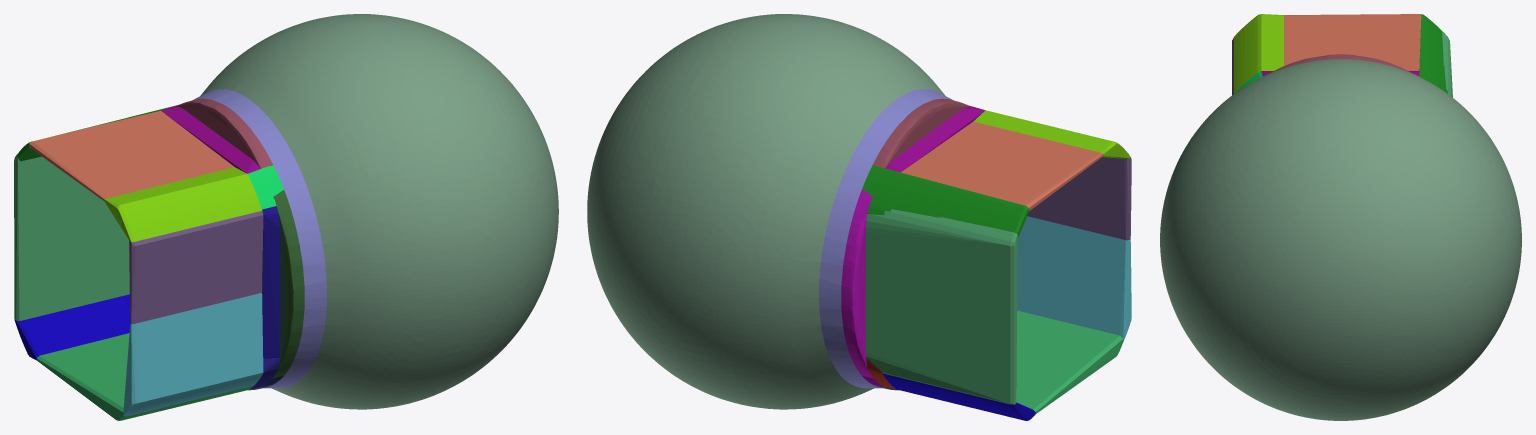
Rendered from lamp_bulb_body.obj.
3 views of the same model, side by side, from view 1: azimuth 30°, elevation 25°; view 2: azimuth 150°, elevation 25°; view 3: azimuth 270°, elevation 25° (orthographic). The views are drawn at different scales.
Parts seen in each view (by area): view 1: geometry_0, geometry_3, geometry_2, geometry_1, geometry_9, geometry_12, geometry_4, geometry_10, geometry_5, geometry_19, geometry_20, geometry_13 (+2 smaller); view 2: geometry_0, geometry_3, geometry_2, geometry_9, geometry_12, geometry_10, geometry_8, geometry_1, geometry_22, geometry_13, geometry_4, geometry_5 (+1 smaller); view 3: geometry_0, geometry_9, geometry_4, geometry_8, geometry_13, geometry_3.
Boxes of the visible parts, box(x1,y1,x2,y2) form: geometry_0: box(200, 14, 558, 409); geometry_3: box(14, 154, 129, 320); geometry_2: box(123, 293, 263, 416); geometry_1: box(129, 211, 263, 324); geometry_9: box(29, 110, 234, 200); geometry_12: box(193, 89, 326, 388); geometry_4: box(104, 167, 262, 242); geometry_10: box(36, 333, 253, 420); geometry_5: box(14, 294, 130, 360); geometry_19: box(272, 190, 304, 378); geometry_20: box(262, 206, 280, 358); geometry_13: box(176, 98, 272, 168); geometry_0: box(587, 14, 945, 409); geometry_3: box(865, 209, 1017, 404); geometry_2: box(1017, 216, 1131, 341); geometry_9: box(901, 121, 1103, 210); geometry_12: box(819, 89, 952, 388); geometry_10: box(1016, 310, 1123, 413); geometry_8: box(862, 165, 1029, 237); geometry_1: box(1027, 157, 1131, 240); geometry_22: box(841, 190, 873, 378); geometry_13: box(872, 98, 969, 168); geometry_4: box(973, 110, 1130, 158); geometry_5: box(883, 373, 1035, 420); geometry_0: box(1160, 59, 1521, 420); geometry_9: box(1284, 14, 1421, 70); geometry_4: box(1233, 14, 1283, 93); geometry_8: box(1419, 14, 1447, 93); geometry_13: box(1263, 54, 1418, 76); geometry_3: box(1442, 31, 1452, 97).
Bounding box in the file's own units: 0.0816 × 0.0608 × 0.0608.
